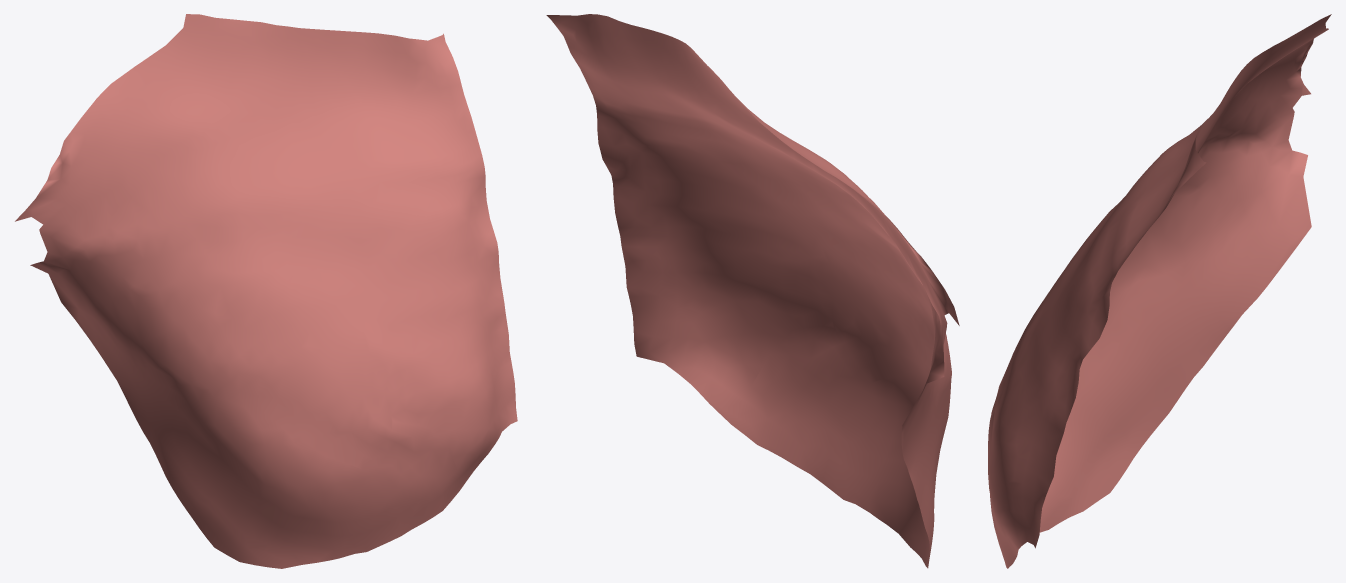
3 views of the same model, side by side, from view 1: azimuth 30°, elevation 25°; view 2: azimuth 150°, elevation 25°; view 3: azimuth 270°, elevation 25° (orthographic). The views are drawn at different scales.
Visible parts, largest first — view 1: ZA_182443e0f28ff4b9; view 2: ZA_182443e0f28ff4b9; view 3: ZA_182443e0f28ff4b9.
Part boxes in pixels (left/top/right/bottom): ZA_182443e0f28ff4b9: left=15, top=14, right=517, bottom=568; ZA_182443e0f28ff4b9: left=546, top=14, right=959, bottom=568; ZA_182443e0f28ff4b9: left=988, top=14, right=1331, bottom=568.
Size of the model in its own units: 0.1723 by 0.1969 by 0.1155.
